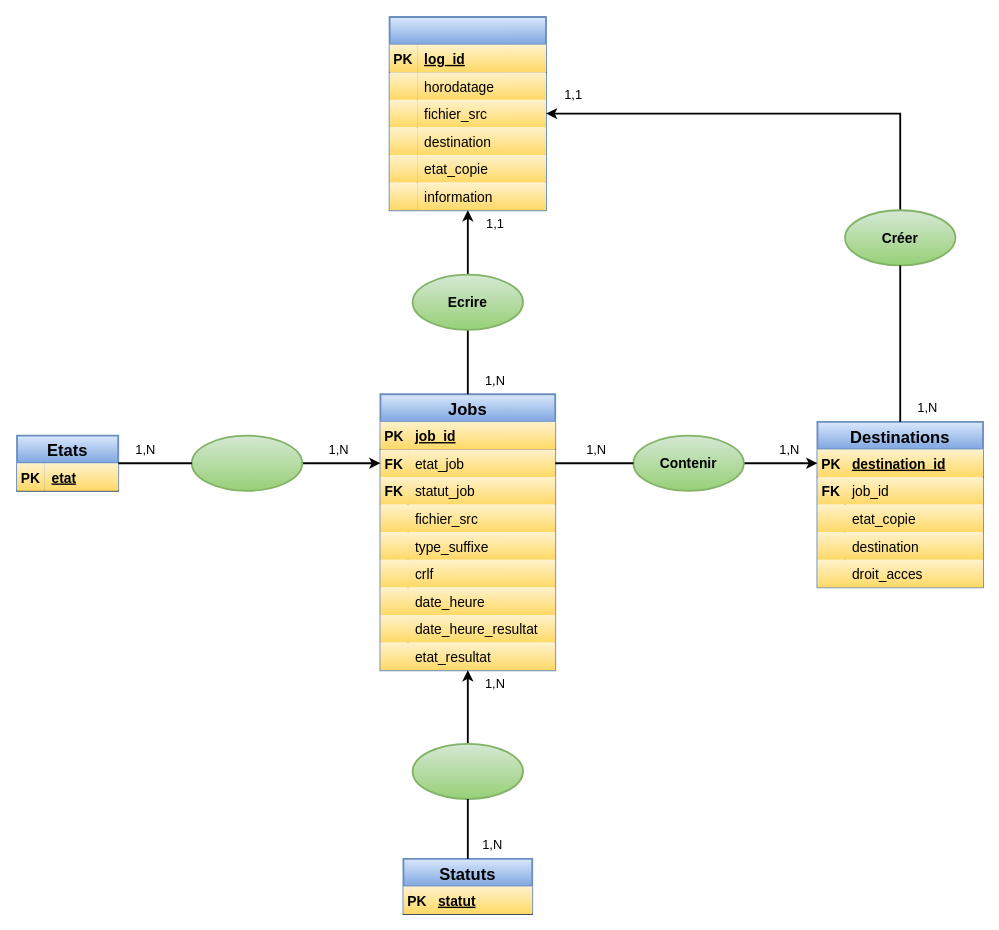
Image size: 999x930. Some labels were removed from this diagram. The box of each missing label's shape, as (x1, y1, x2, y2) in pixels:
Logs: (388, 16, 546, 211)
Référencer: (411, 742, 523, 799)
Valoriser: (190, 434, 303, 491)
